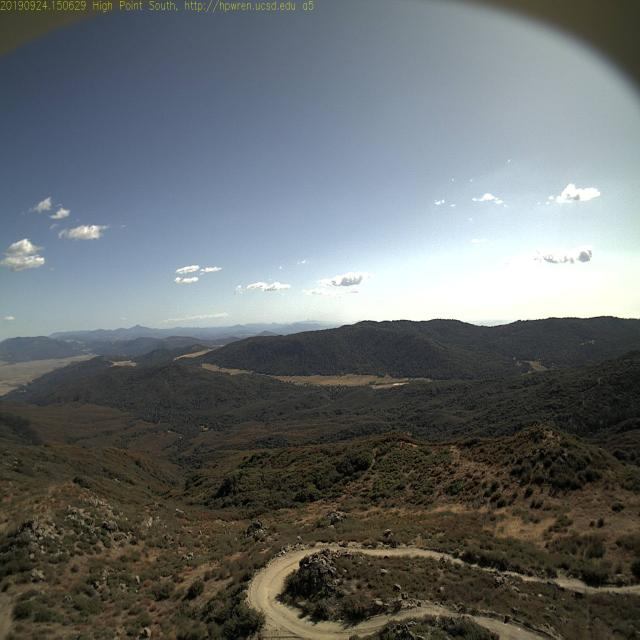smoke: (302, 311, 314, 326)
